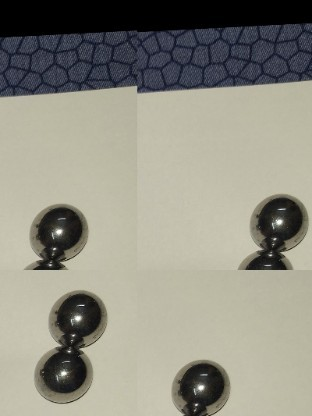ironball: (251, 188, 309, 253), (170, 358, 232, 416), (24, 203, 90, 256), (33, 344, 89, 404), (51, 288, 106, 346), (236, 248, 299, 269)
